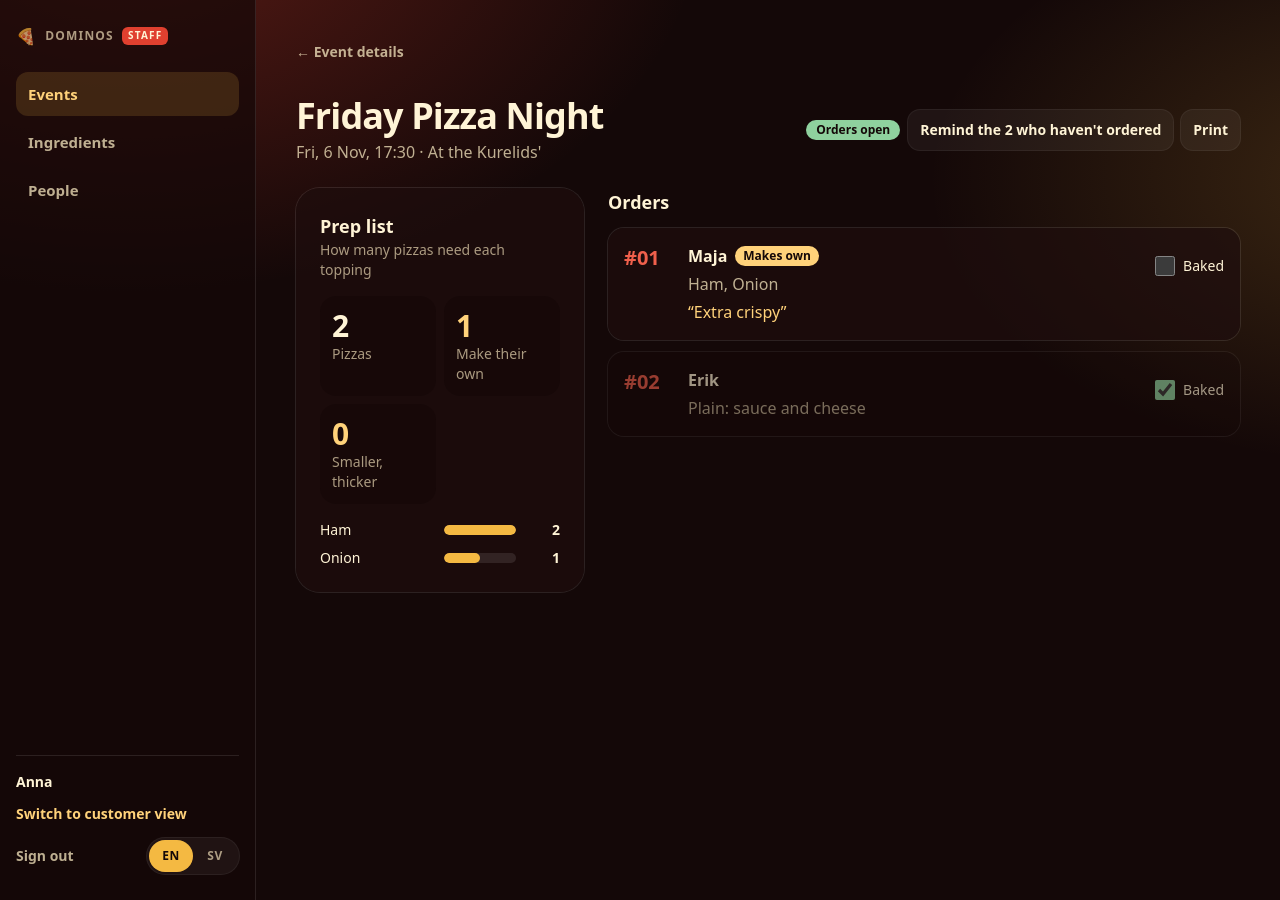
the orders view (staff) › reminds the people who have not ordered
Note: 5 invited, 1 said no, 2 ordered: 2 still to order.
Step 1. Click the button "Remind the 2 who haven't ordered" → (1041,130), box [908,110,1173,150]
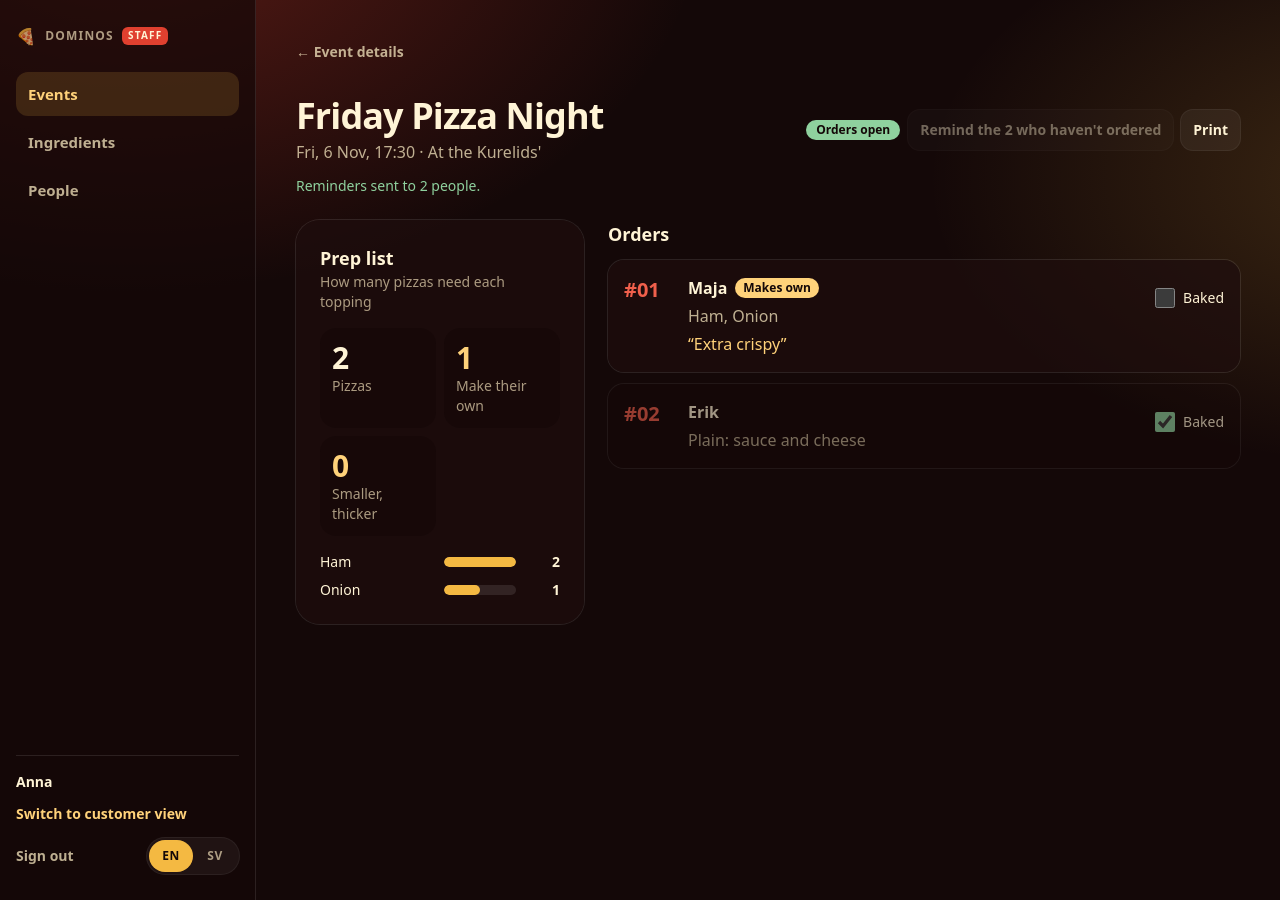
Check: the message reads "Reminders sent to 2 people.", box [296,176,480,195]
